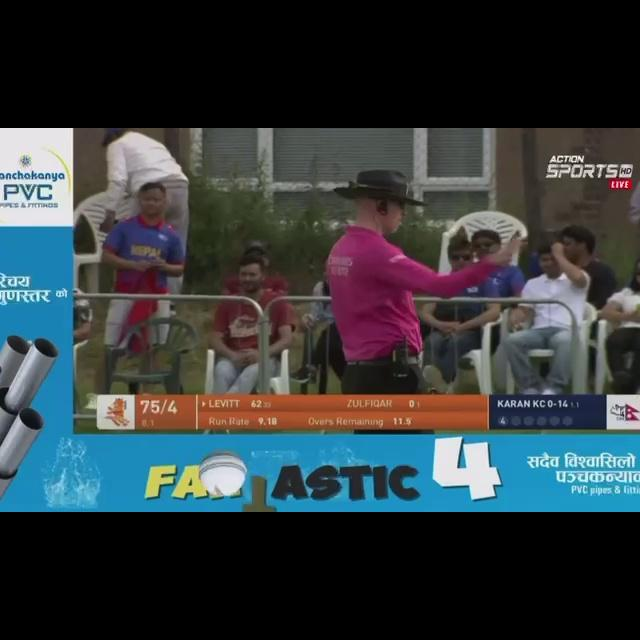umpire: (269, 153, 538, 384)
